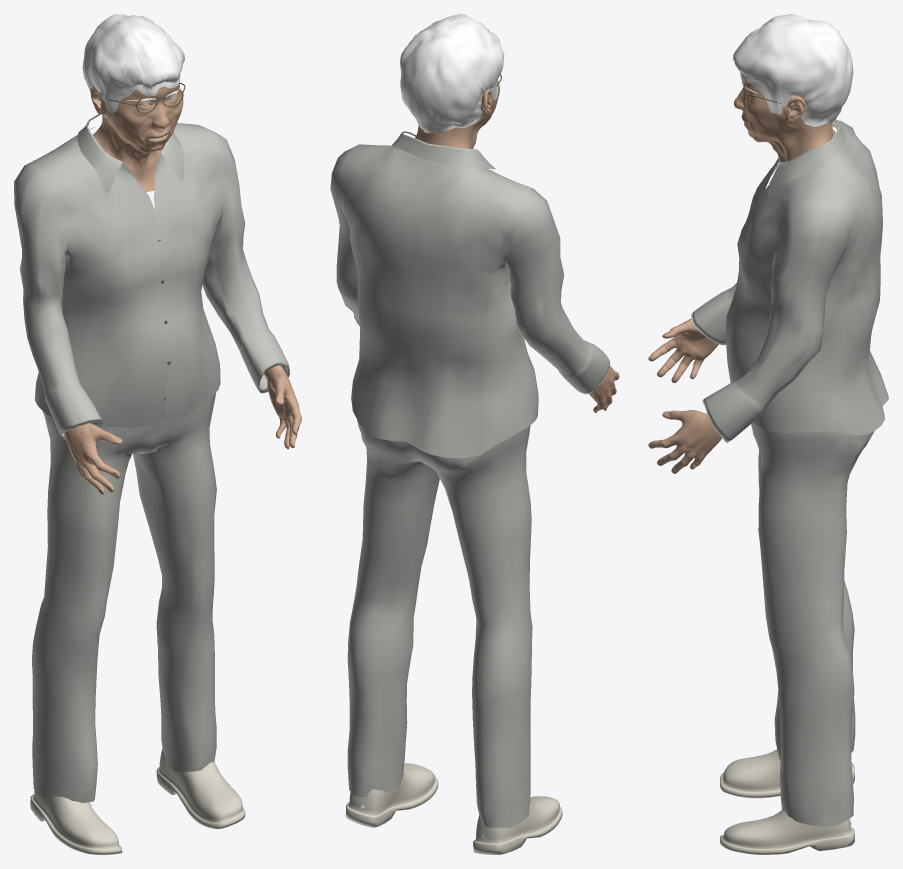
Rendered from elder-man.glb.
The picture shows the model from 3 angles, left to right: view 1: azimuth 30°, elevation 25°; view 2: azimuth 150°, elevation 25°; view 3: azimuth 270°, elevation 25°; orthographic projection.
Parts seen in each view (by area): view 1: CC0 fitted clothes/male_casualsuit03/male_casualsuit03, smooth human anatomy with per-corner UV seams, CC0 fitted clothes/shoes04/shoes04, CC0 fitted hair/short02/short02; view 2: CC0 fitted clothes/male_casualsuit03/male_casualsuit03, CC0 fitted hair/short02/short02, CC0 fitted clothes/shoes04/shoes04, smooth human anatomy with per-corner UV seams; view 3: CC0 fitted clothes/male_casualsuit03/male_casualsuit03, CC0 fitted hair/short02/short02, smooth human anatomy with per-corner UV seams, CC0 fitted clothes/shoes04/shoes04.
Part boxes in pixels (<box>): CC0 fitted clothes/male_casualsuit03/male_casualsuit03: <box>14,114,289,802</box>; smooth human anatomy with per-corner UV seams: <box>64,83,301,494</box>; CC0 fitted clothes/shoes04/shoes04: <box>30,748,245,854</box>; CC0 fitted hair/short02/short02: <box>82,14,184,118</box>; CC0 fitted clothes/male_casualsuit03/male_casualsuit03: <box>330,131,609,827</box>; CC0 fitted hair/short02/short02: <box>400,14,504,133</box>; CC0 fitted clothes/shoes04/shoes04: <box>345,763,562,854</box>; smooth human anatomy with per-corner UV seams: <box>415,80,619,412</box>; CC0 fitted clothes/male_casualsuit03/male_casualsuit03: <box>691,119,888,826</box>; CC0 fitted hair/short02/short02: <box>733,14,853,126</box>; smooth human anatomy with per-corner UV seams: <box>648,77,835,473</box>; CC0 fitted clothes/shoes04/shoes04: <box>720,749,854,854</box>.
Bounding box in the file's own units: 0.5258 × 1.74 × 0.4751.
